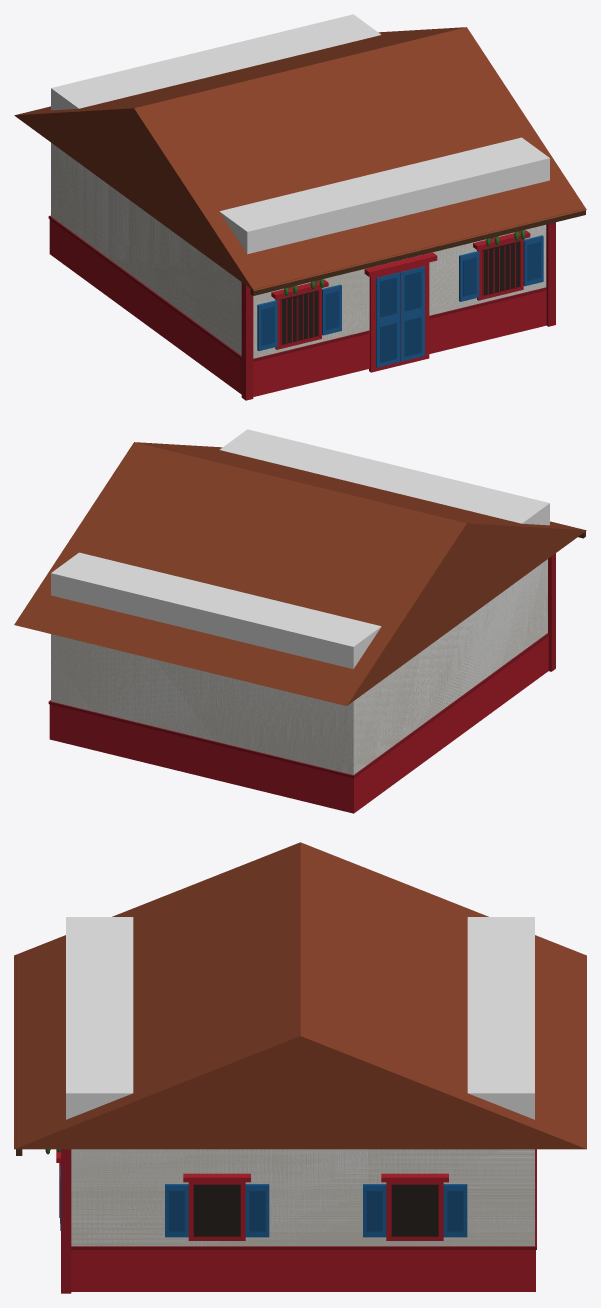
Rendered from casa_cafetera_baja_rojo.glb.
3 renders of one model, top to bottom at view 1: azimuth 30°, elevation 25°; view 2: azimuth 150°, elevation 25°; view 3: azimuth 270°, elevation 25°, orthographic. The views are drawn at different scales.
Parts seen in each view (by area): view 1: casa_cafetera_baja_rojo_Malla, COL_0; view 2: casa_cafetera_baja_rojo_Malla, COL_0; view 3: casa_cafetera_baja_rojo_Malla, COL_0.
Boxes of the visible parts, box(x1,y1,x2,y2) form: casa_cafetera_baja_rojo_Malla: box(14, 27, 586, 400); COL_0: box(51, 14, 549, 357); casa_cafetera_baja_rojo_Malla: box(14, 442, 586, 813); COL_0: box(51, 429, 549, 774); casa_cafetera_baja_rojo_Malla: box(14, 842, 586, 1293); COL_0: box(66, 917, 534, 1246).
Size of the model in its own units: 8.8 by 5.68 by 11.
